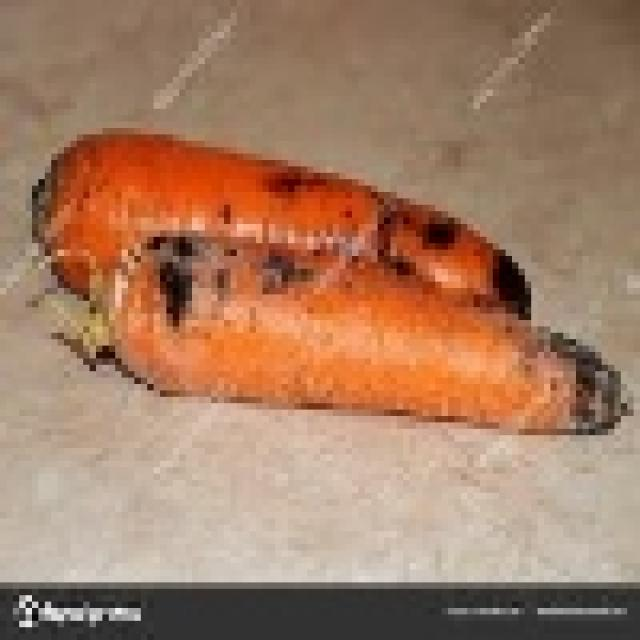Stale_Carrot: (75, 269, 624, 437), (51, 130, 530, 309)
